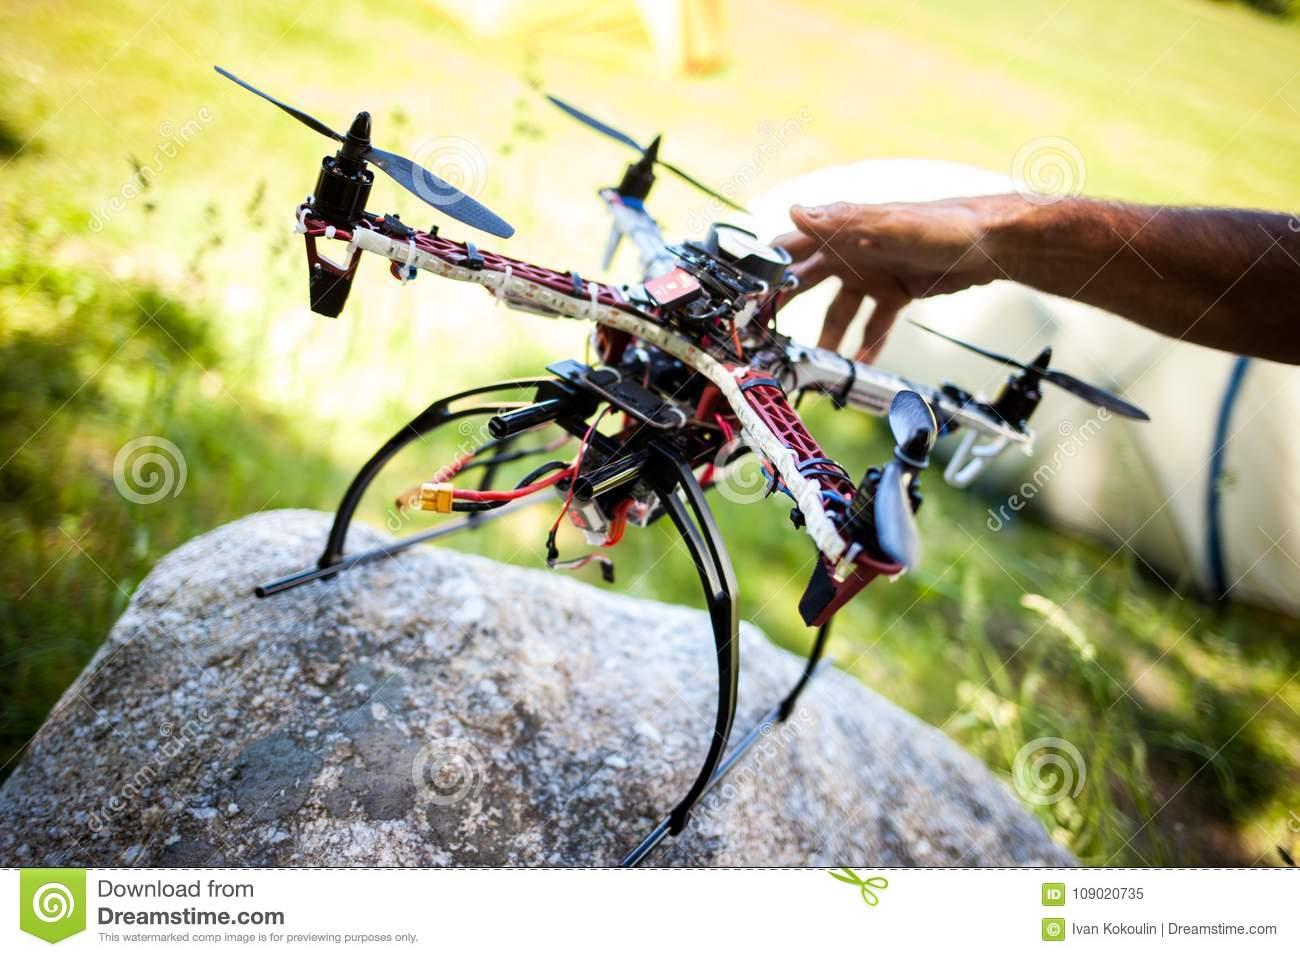drone: (196, 38, 1168, 711)
